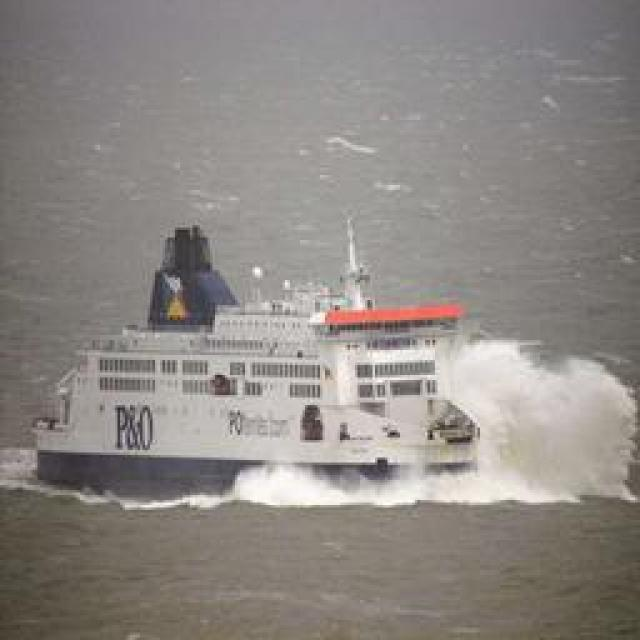CIV_Ship: (28, 202, 492, 490)
